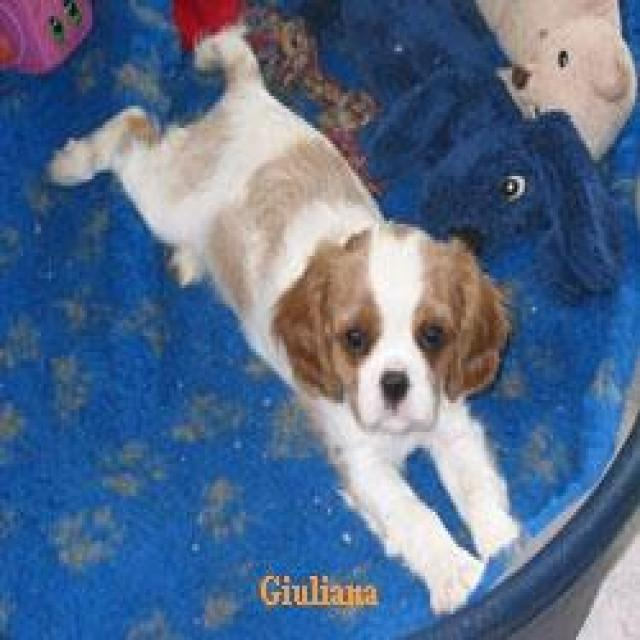blenheim_spaniel: (33, 19, 525, 618)
